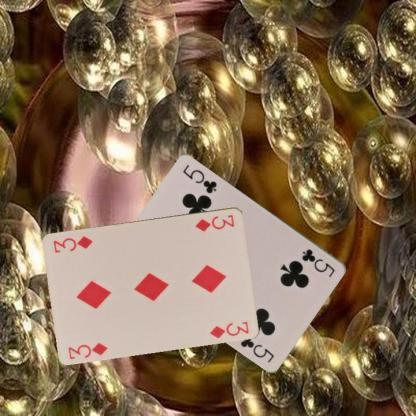3d: (193, 212, 236, 232), (66, 340, 108, 360)
5c: (299, 246, 337, 279)
